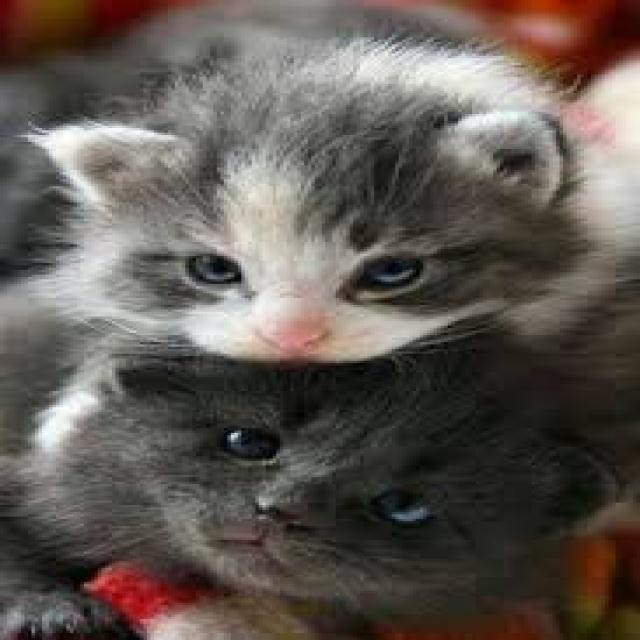Cat: (0, 36, 596, 363), (11, 348, 592, 640)
